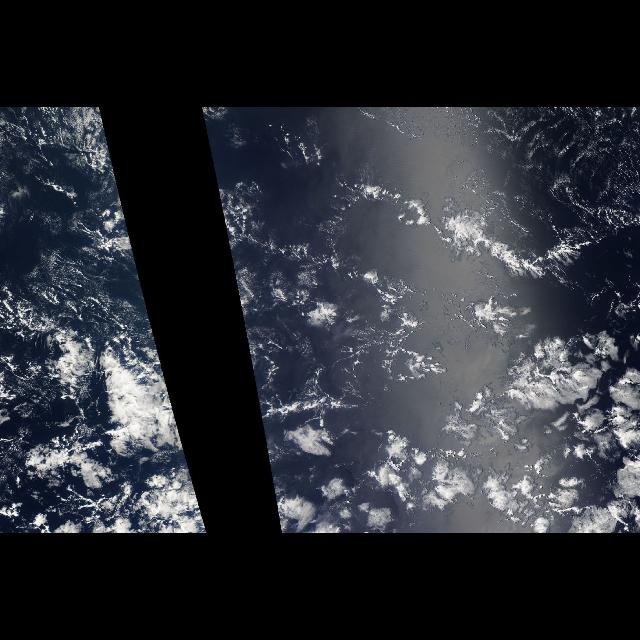Flower: (277, 353, 639, 533)
Gravel: (445, 115, 635, 243)
Sugar: (444, 107, 636, 230)
